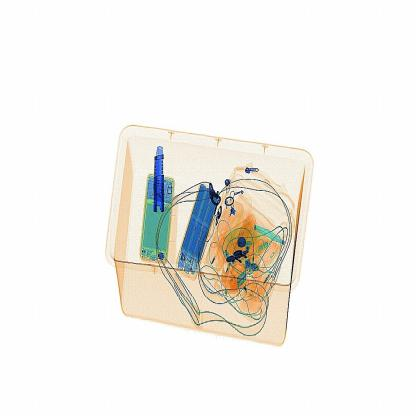pliers: (145, 132, 174, 215)
